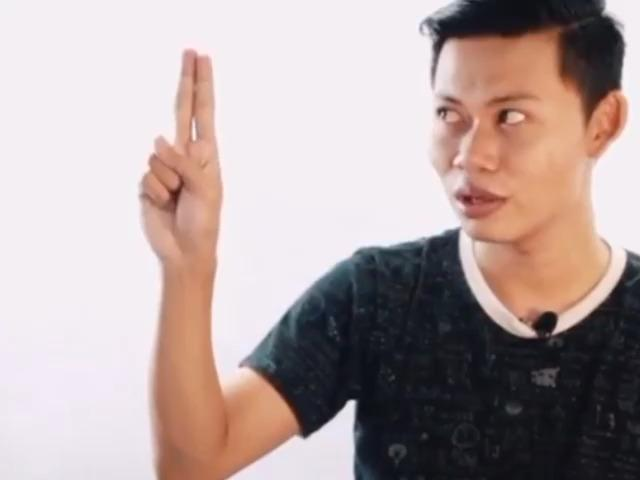U: (134, 35, 232, 276)
